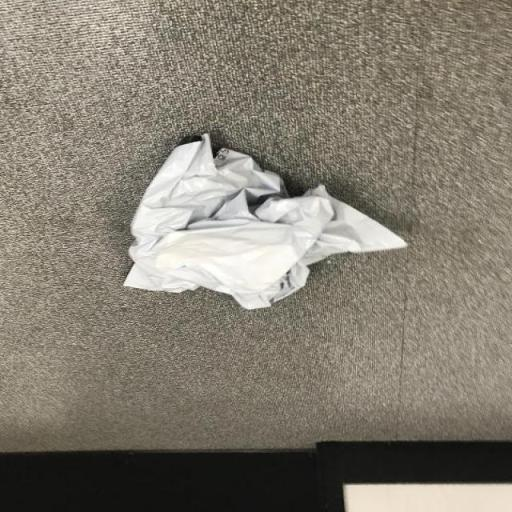plastic-bag: (114, 128, 412, 311)
